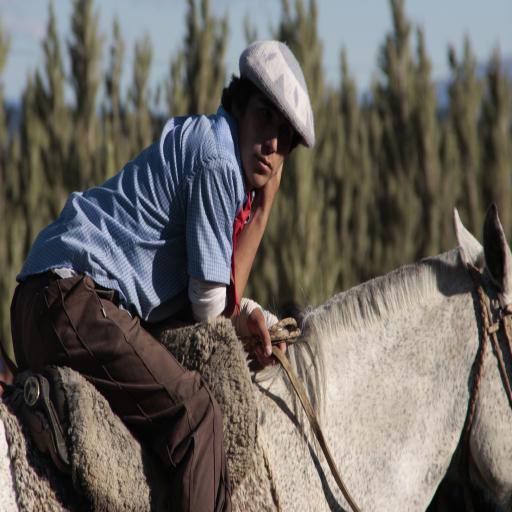horse: (0, 208, 512, 512)
